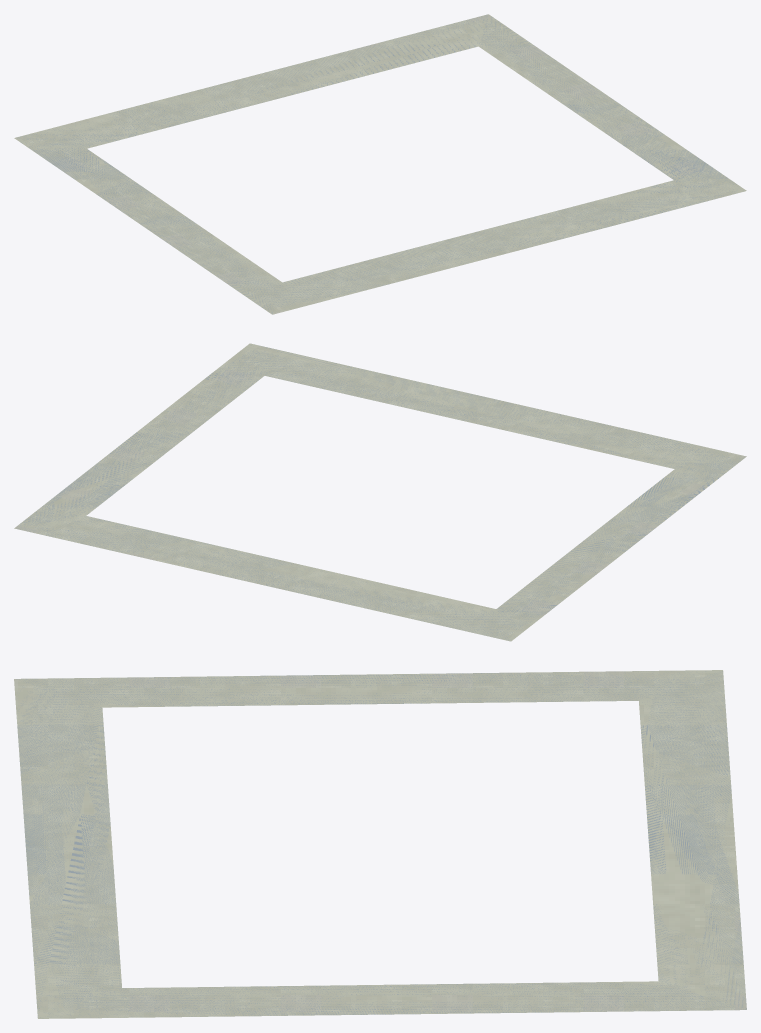
File: 人民英雄纪念碑148.dae
The picture shows the model from 3 angles, top to bottom: view 1: azimuth 30°, elevation 25°; view 2: azimuth 150°, elevation 25°; view 3: azimuth 270°, elevation 25°; orthographic projection. The views are drawn at different scales.
Parts seen in each view (by area): view 1: SketchUp; view 2: SketchUp; view 3: SketchUp.
Boxes of the visible parts, x1,y1,x2,y2 form: SketchUp: (14,14,746,314); SketchUp: (14,343,746,641); SketchUp: (14,670,746,1018).
Bounding box in the file's own units: 339 × 301 × 0.
